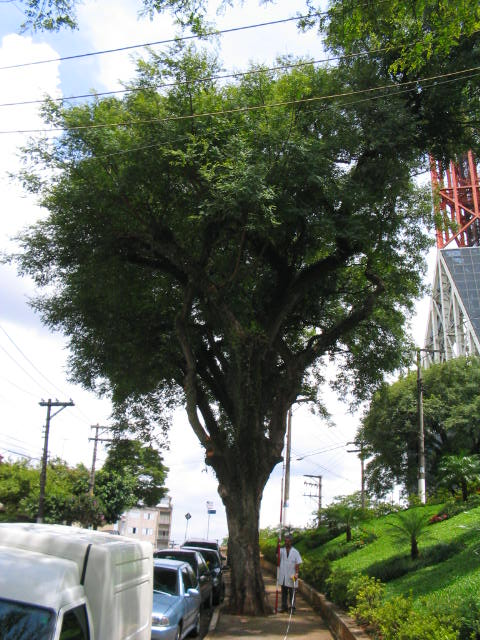crown: (4, 40, 457, 438)
stem: (207, 481, 272, 614)
stick: (270, 476, 289, 613)
tree: (2, 39, 459, 616)
